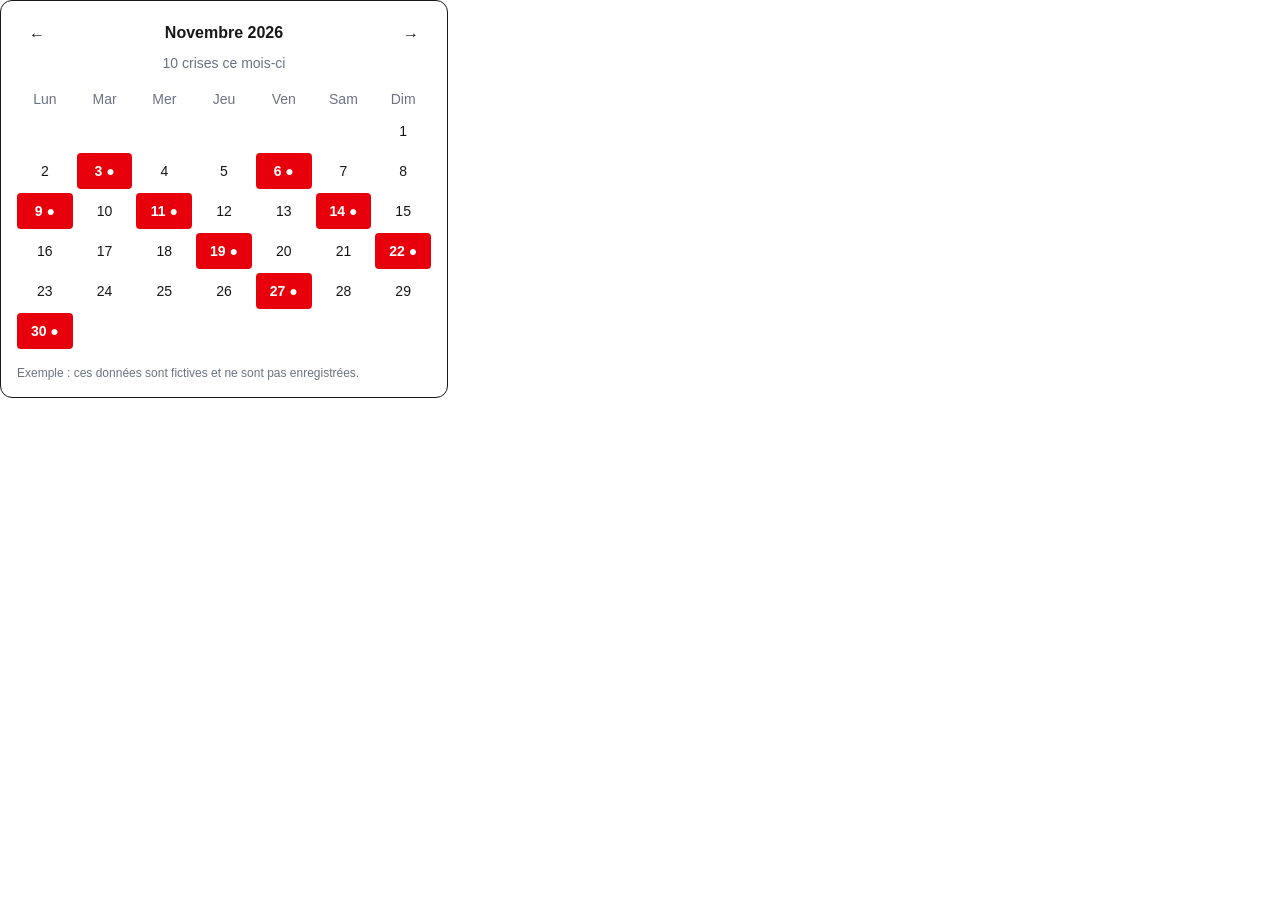
Test: suppression d'une crise › en mode démo : supprime en mémoire sans appeler le serveur
Expected: the text "10 crises ce mois-ci" is shown, [162,55,285,71]
// Le 3 novembre ne compte qu'une seule crise dans les données de démonstration
Click the button "3 ●" at [105, 171], box [77,153,132,189]
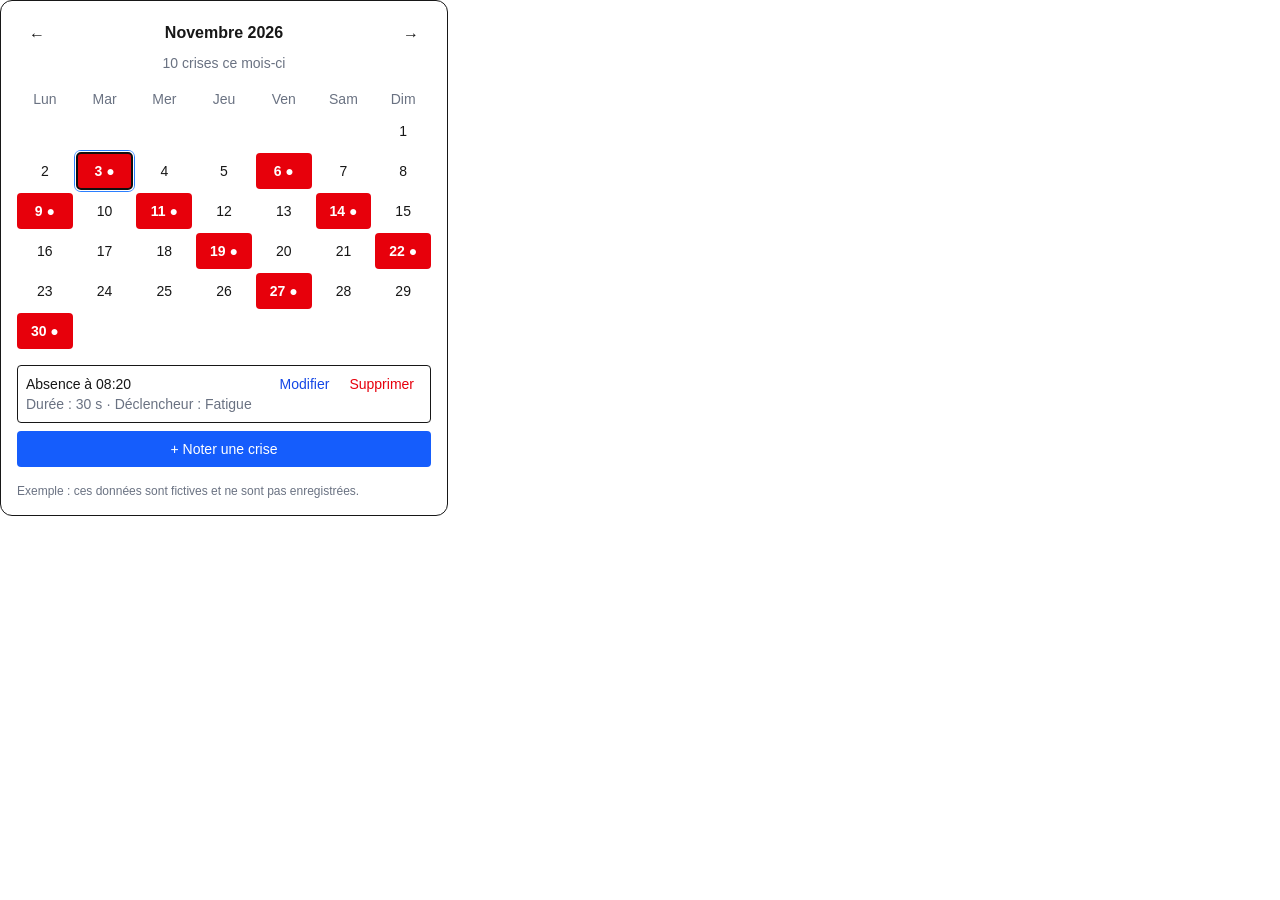
Click the button with aria-label "Supprimer cette crise" at [382, 384], box [341,374,422,394]
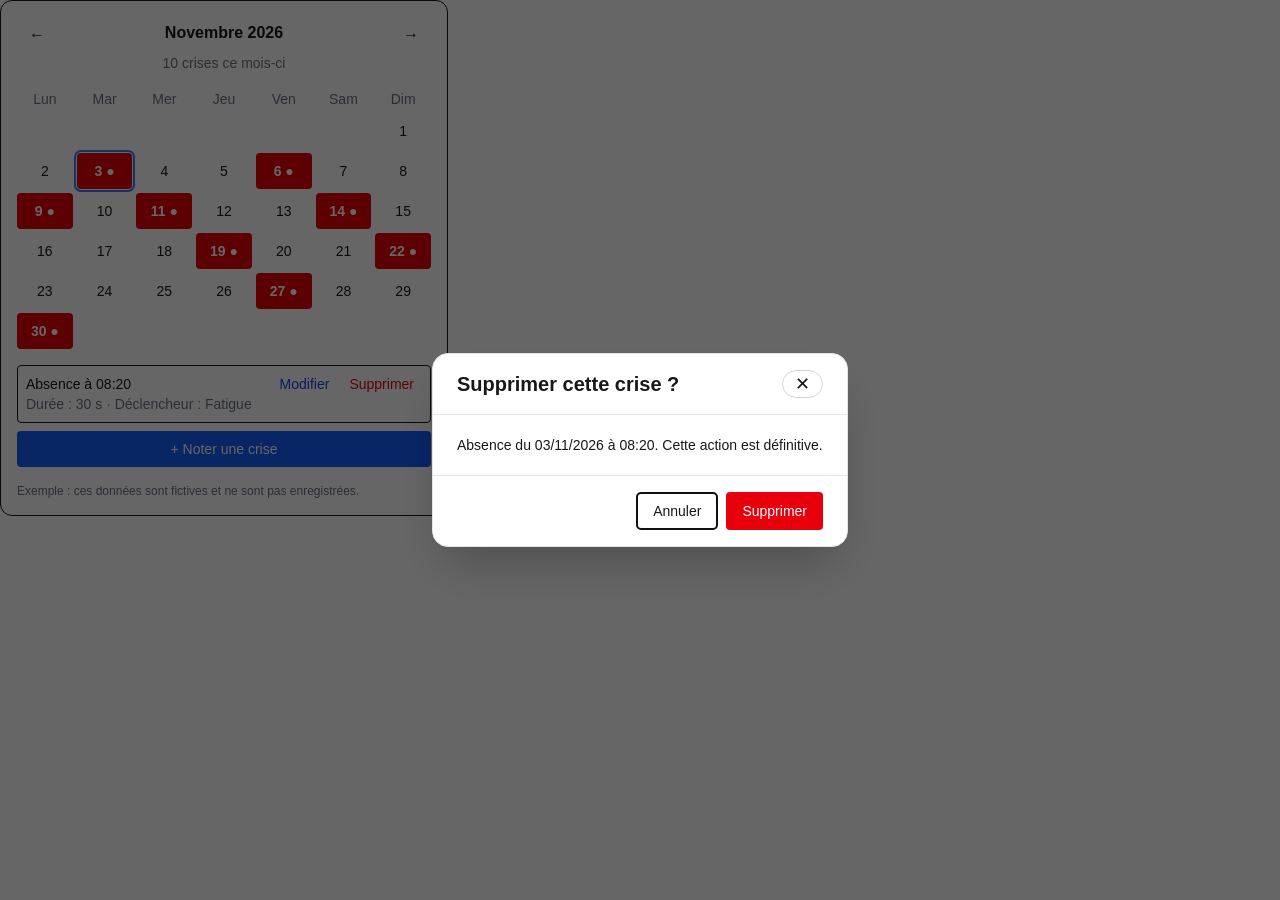
Click the button "Supprimer" at [775, 511], box [726,492,823,530]
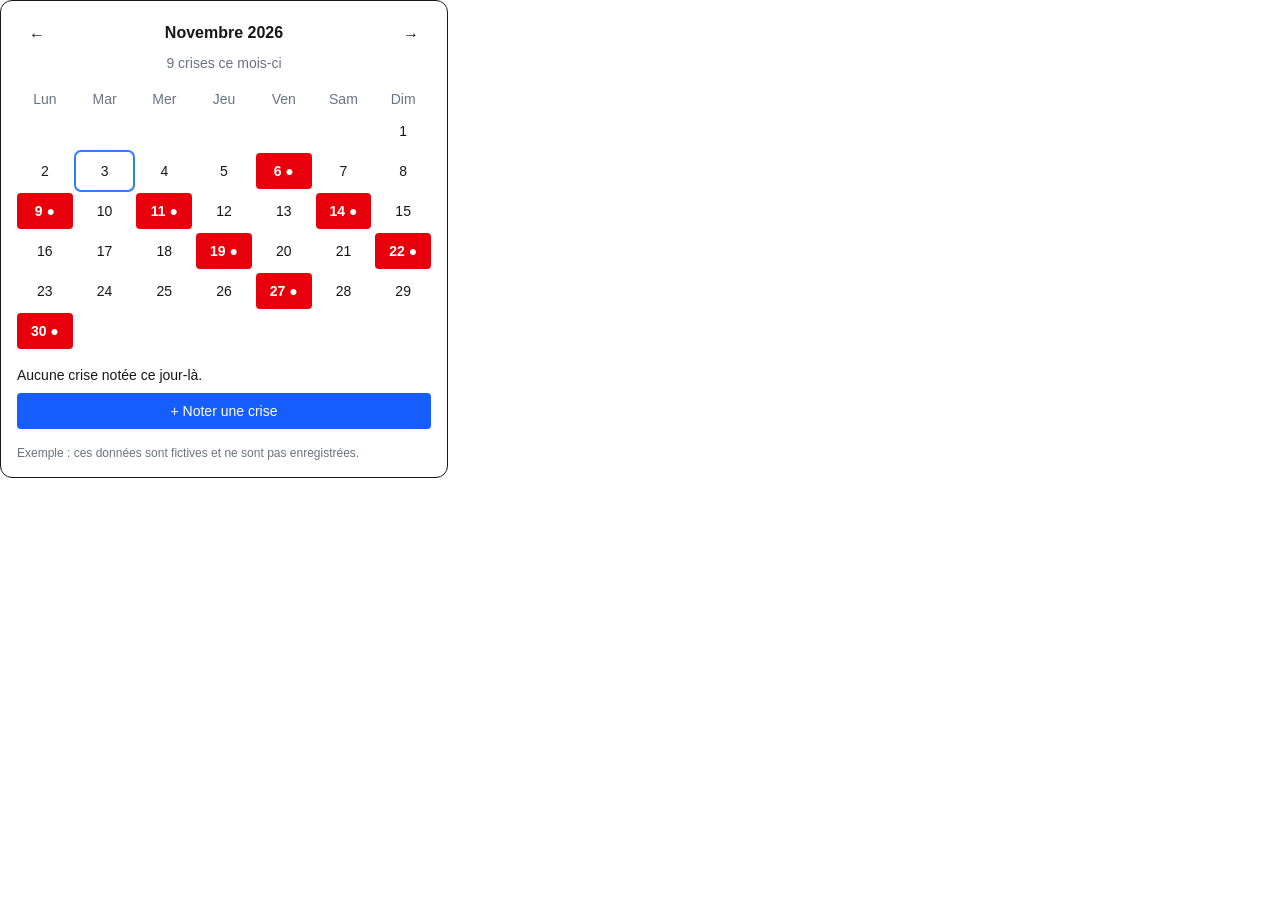
Now the text "9 crises ce mois-ci" is shown, box [166,55,282,71]
